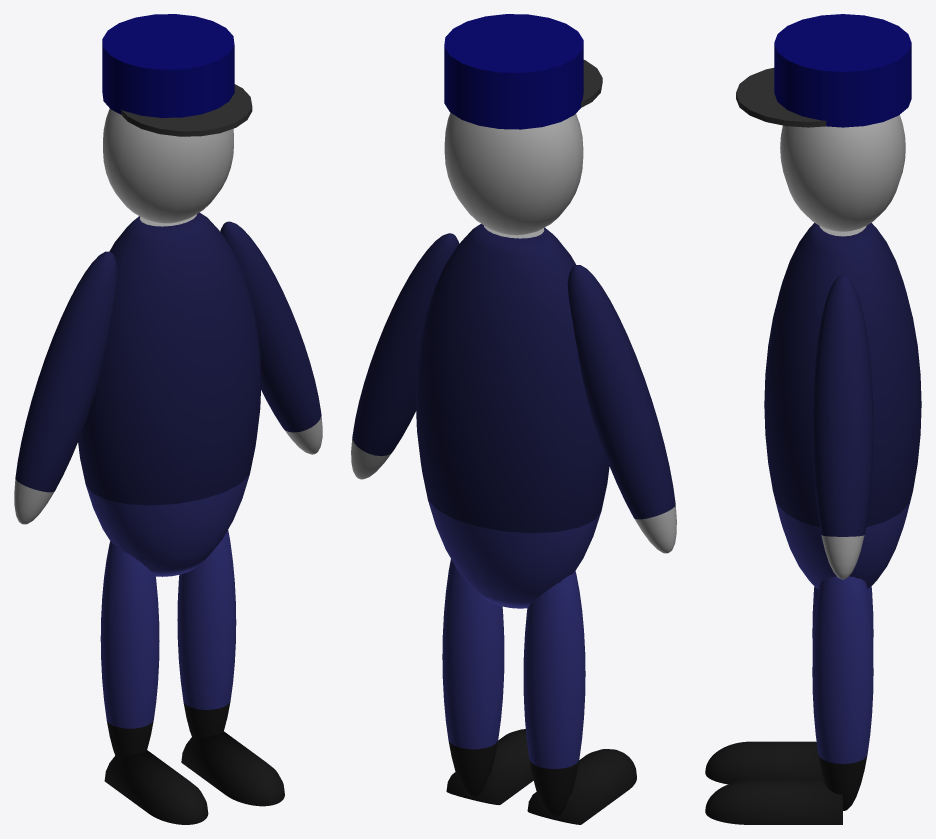
File: Idling.fbx
3 renders of one model, left to right at view 1: azimuth 30°, elevation 25°; view 2: azimuth 150°, elevation 25°; view 3: azimuth 270°, elevation 25°, orthographic. The views are drawn at different scales.
Visible parts, largest first — view 1: Body, ArmRight, CapTop, LegRight, Head, LegLeft, ArmLeft, FootLeft, FootRight, CapBottom; view 2: Body, ArmRight, CapTop, Head, LegRight, LegLeft, ArmLeft, FootRight, FootLeft, CapBottom; view 3: Body, ArmLeft, CapTop, LegLeft, Head, FootLeft, FootRight, CapBottom.
Boxes of the visible parts, x1,y1,x2,y2 form: Body: (78, 212, 261, 576); ArmRight: (14, 251, 117, 524); CapTop: (102, 14, 234, 117); LegRight: (100, 541, 159, 756); Head: (103, 108, 233, 223); LegLeft: (177, 530, 236, 737); ArmLeft: (220, 221, 322, 454); FootLeft: (181, 731, 284, 806); FootRight: (104, 750, 208, 824); CapBottom: (121, 84, 252, 136); Body: (415, 224, 609, 608); ArmRight: (567, 265, 676, 553); CapTop: (444, 14, 583, 129); Head: (444, 112, 583, 235); LegRight: (523, 570, 585, 816); LegLeft: (442, 559, 504, 797); ArmLeft: (351, 233, 459, 479); FootRight: (527, 749, 636, 824); FootLeft: (446, 729, 533, 804); CapBottom: (581, 60, 602, 107); Body: (764, 222, 921, 589); ArmLeft: (812, 275, 873, 579); CapTop: (774, 14, 911, 127); LegLeft: (812, 576, 873, 810); Head: (780, 115, 905, 231); FootLeft: (705, 780, 842, 824); FootRight: (705, 741, 823, 784); CapBottom: (736, 68, 826, 127).
Bounding box in the file's own units: 2.38 × 5.42 × 1.41.
